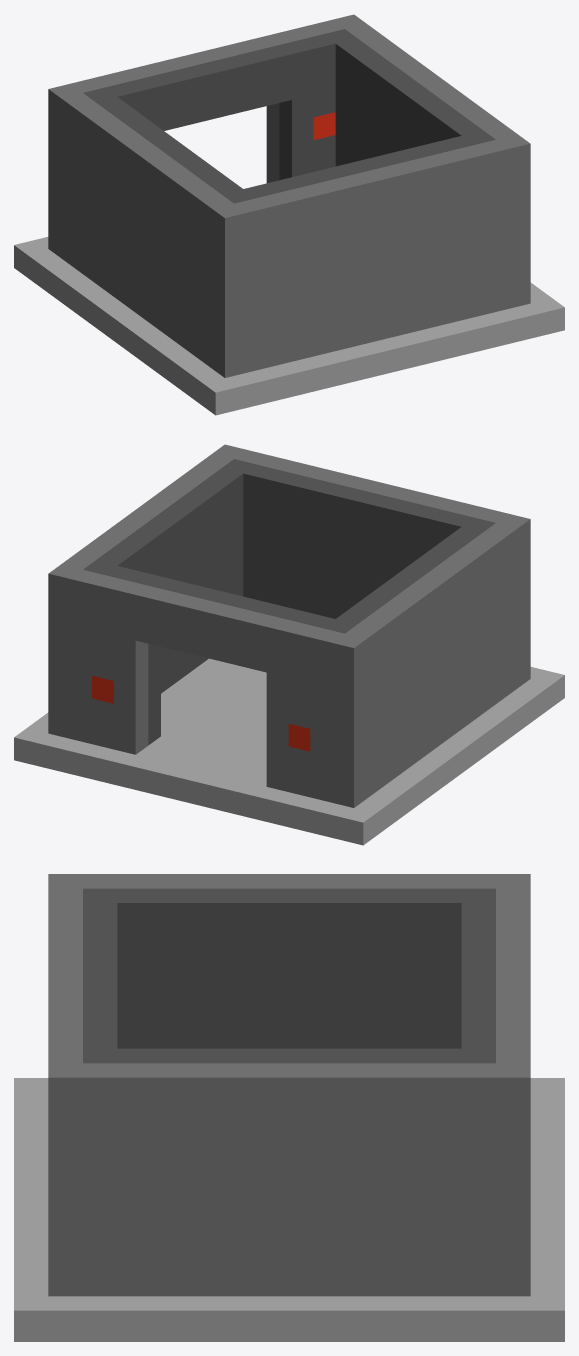
Rendered from Towar-2.obj.
3 renders of one model, top to bottom at view 1: azimuth 30°, elevation 25°; view 2: azimuth 150°, elevation 25°; view 3: azimuth 270°, elevation 25°, orthographic. The views are drawn at different scales.
Visible parts, largest first — view 1: towar-2; view 2: towar-2; view 3: towar-2.
Part boxes in pixels (x1,y1,x2,y2): towar-2: [14, 14, 564, 415]; towar-2: [14, 444, 564, 845]; towar-2: [14, 874, 564, 1341].
Bounding box in the file's own units: 16 × 8 × 16.
Materials: 1 (1 with a texture image).
